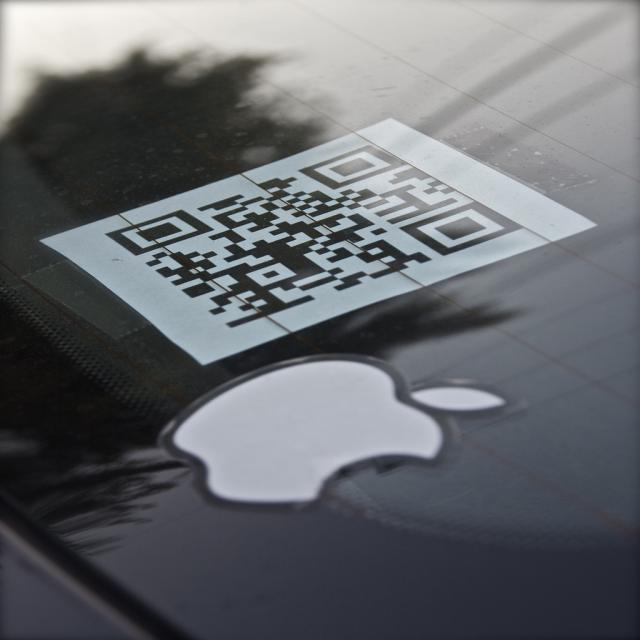qrcode: (105, 146, 524, 329)
